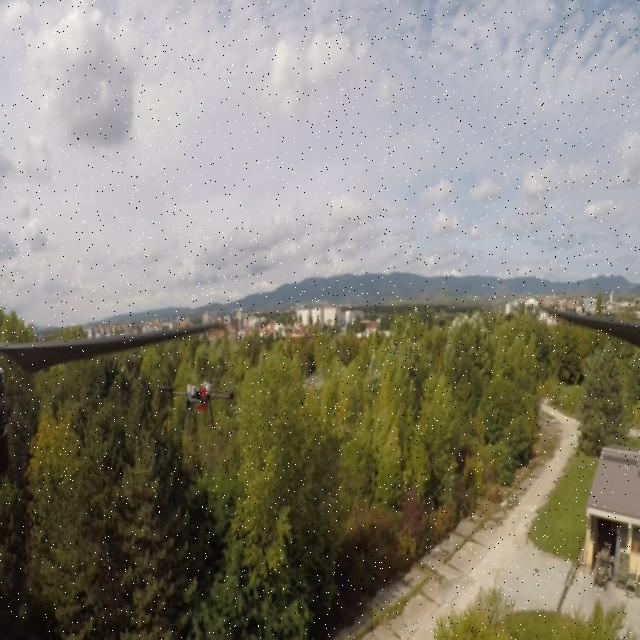UAV: (161, 370, 239, 444)
